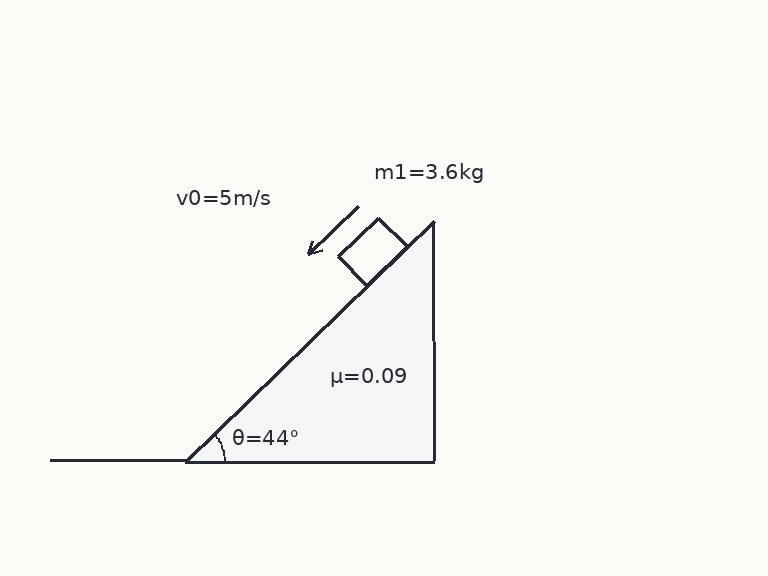block: (337, 215, 409, 287)
ramp: (183, 219, 435, 463)
